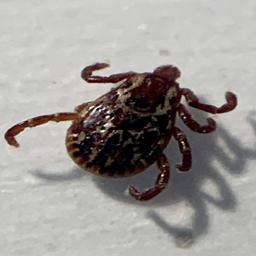Dermacentor variabilis: (5, 61, 237, 201)
